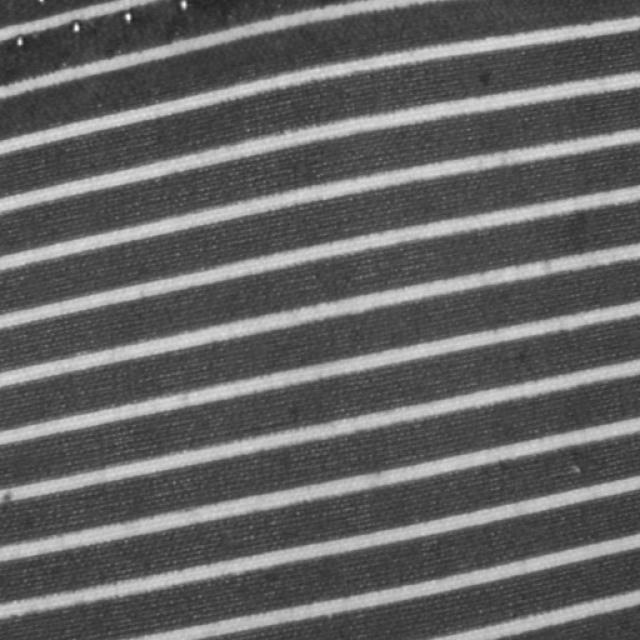Hole-Defect: (0, 0, 202, 46)
